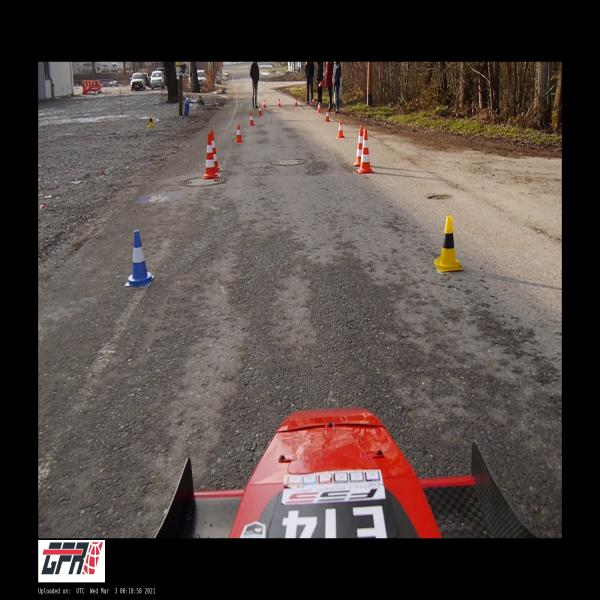blue_cone: (125, 229, 155, 287), (185, 94, 189, 104)
large_orange_cone: (203, 135, 218, 178), (358, 129, 372, 172), (210, 130, 221, 171), (354, 126, 364, 165)
orange_cone: (235, 124, 242, 142), (338, 120, 344, 138), (325, 108, 330, 122), (249, 112, 254, 125), (258, 104, 262, 115), (317, 102, 321, 113), (263, 100, 267, 108), (278, 98, 281, 108), (312, 97, 315, 107), (295, 97, 298, 106), (318, 82, 323, 87)
yellow_cone: (433, 216, 463, 272), (148, 114, 154, 127)
